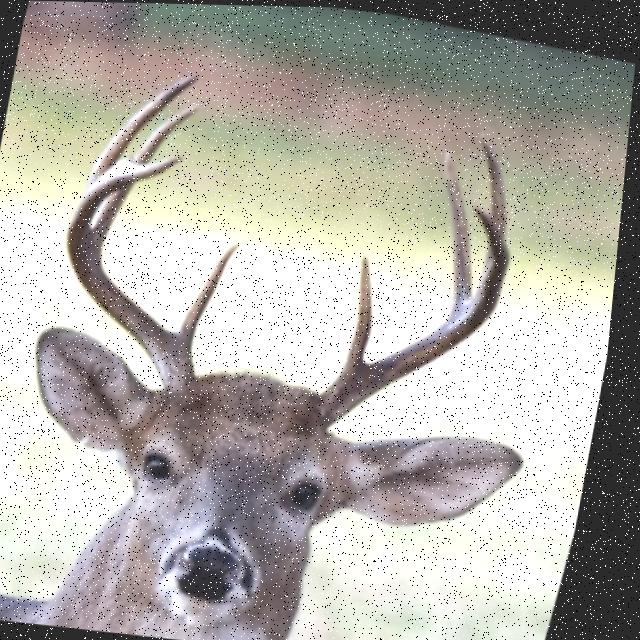L-F: (71, 153, 203, 390)
L-G1: (181, 239, 246, 348)
R-F: (323, 203, 516, 426)
R-G1: (349, 251, 379, 372)
R-G2: (445, 145, 479, 317)
